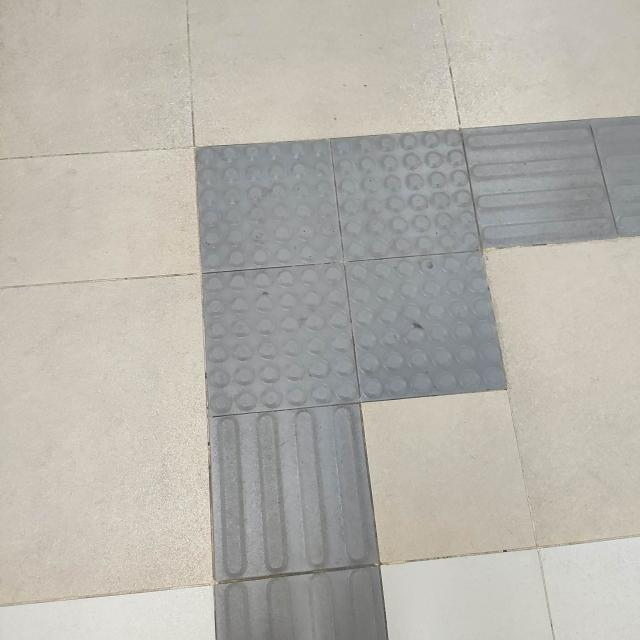kanan: (129, 96, 640, 479)
